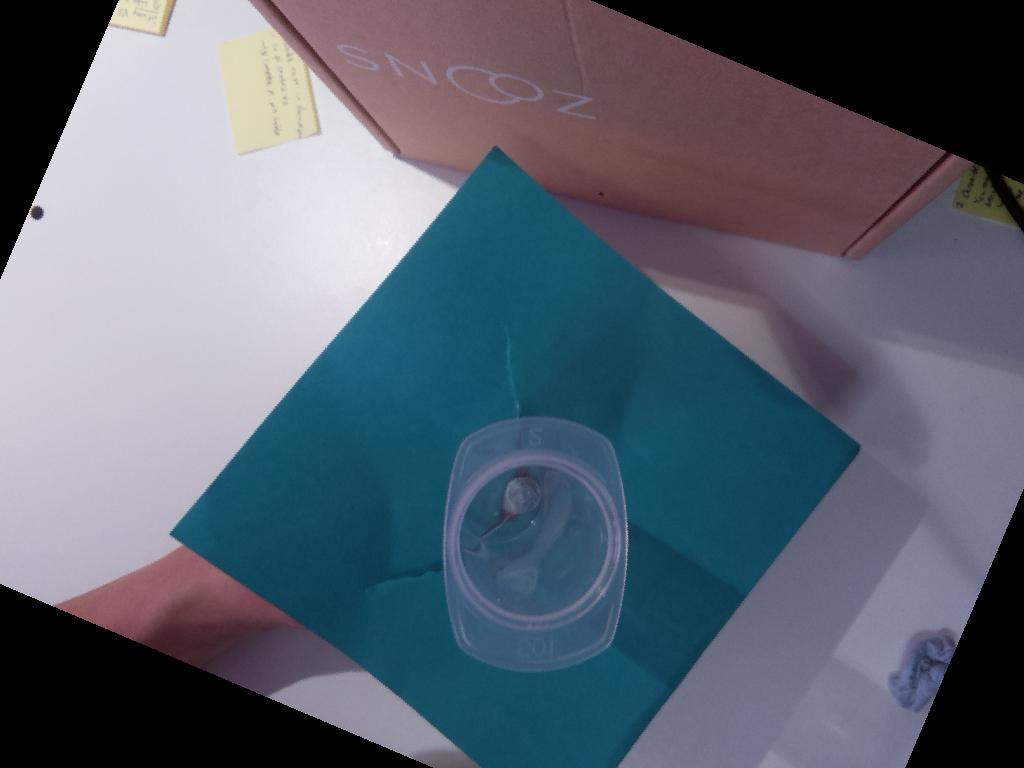clean: (442, 414, 630, 674)
